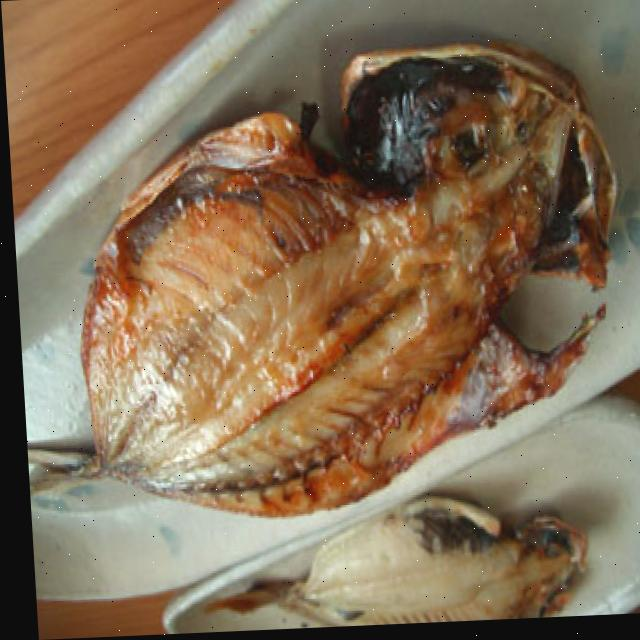熟制海鲜: (3, 35, 628, 578)
